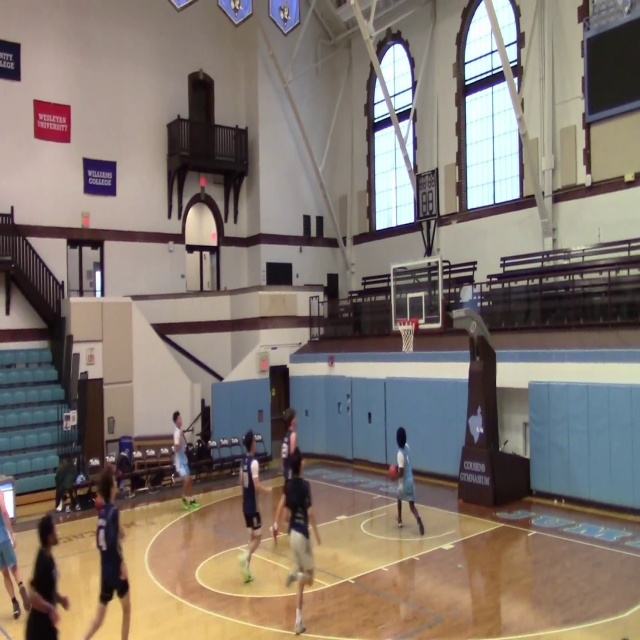Basketball: (388, 465, 398, 481), (94, 496, 104, 510)
